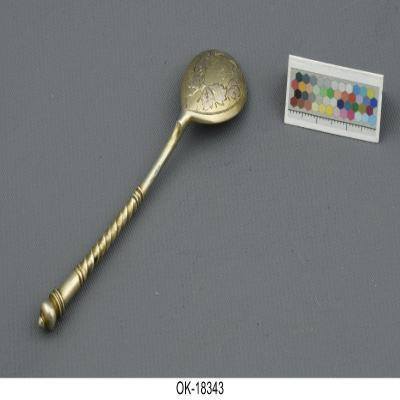dpi: (38, 50, 249, 332)
